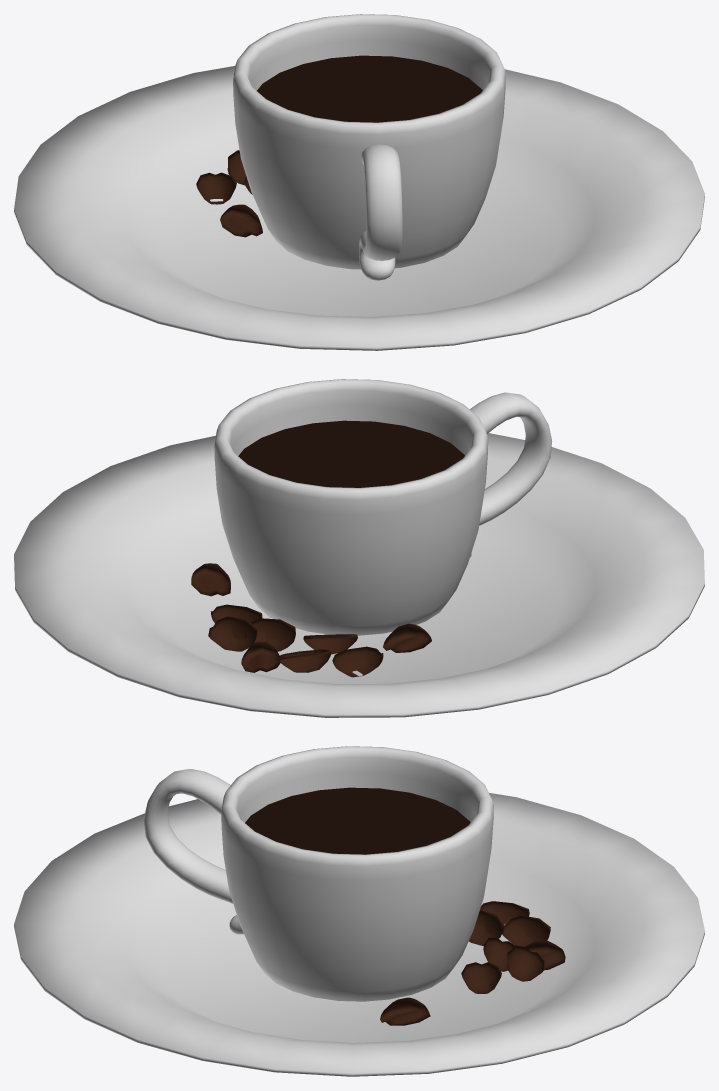
The model's file is cafe.glb.
The picture shows the model from 3 angles, top to bottom: view 1: azimuth 30°, elevation 25°; view 2: azimuth 150°, elevation 25°; view 3: azimuth 270°, elevation 25°; orthographic projection.
Visible parts, largest first — view 1: Dish, Cup of coffee, Circle.008, Circle.005; view 2: Dish, Cup of coffee, Circle.001, Circle.005, Circle.009, Circle.003, Circle.008, Circle.007, Circle.006, Circle.004, Circle.002; view 3: Dish, Cup of coffee, Circle.006, Circle.009, Circle.001, Circle.002, Circle.004, Circle.003, Circle.007, Circle.005.
Boxes of the visible parts, bbox=[...] form: Dish: bbox=[14, 66, 704, 350]; Cup of coffee: bbox=[233, 14, 505, 280]; Circle.008: bbox=[220, 204, 262, 237]; Circle.005: bbox=[196, 172, 236, 204]; Dish: bbox=[14, 433, 704, 717]; Cup of coffee: bbox=[214, 379, 552, 635]; Circle.001: bbox=[208, 616, 257, 651]; Circle.005: bbox=[332, 646, 383, 677]; Circle.009: bbox=[191, 563, 230, 596]; Circle.003: bbox=[244, 618, 295, 651]; Circle.008: bbox=[383, 623, 431, 652]; Circle.007: bbox=[241, 642, 280, 672]; Circle.006: bbox=[278, 649, 331, 672]; Circle.004: bbox=[303, 634, 357, 654]; Circle.002: bbox=[210, 604, 262, 623]; Dish: bbox=[14, 793, 704, 1076]; Cup of coffee: bbox=[143, 746, 493, 1001]; Circle.006: bbox=[502, 915, 550, 946]; Circle.009: bbox=[380, 997, 430, 1025]; Circle.001: bbox=[507, 945, 544, 981]; Circle.002: bbox=[461, 962, 501, 993]; Circle.004: bbox=[469, 910, 504, 945]; Circle.003: bbox=[483, 937, 515, 971]; Circle.007: bbox=[525, 940, 565, 970]; Circle.005: bbox=[480, 901, 529, 924].
Bounding box in the file's own units: 4.28 × 1.15 × 4.28.
